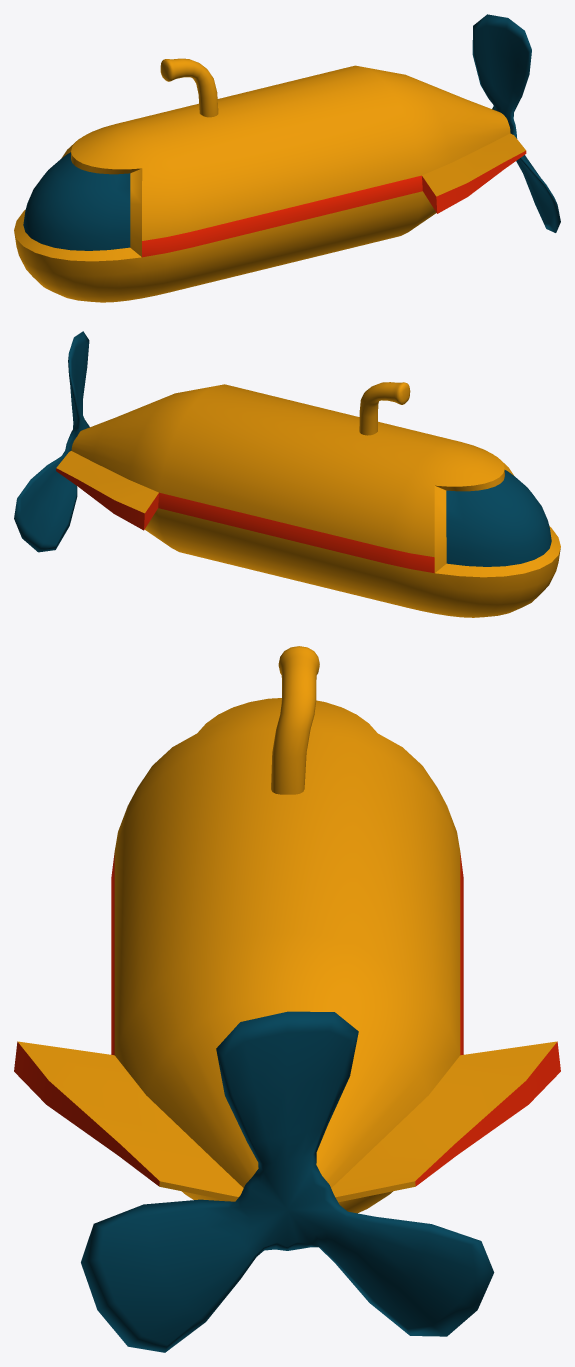
File: submarine.fbx
3 views of the same model, one above another, from view 1: azimuth 30°, elevation 25°; view 2: azimuth 150°, elevation 25°; view 3: azimuth 270°, elevation 25° (orthographic). The views are drawn at different scales.
Visible parts, largest first — view 1: Sybmarine_body, Propeller, Periscope; view 2: Sybmarine_body, Propeller, Periscope; view 3: Sybmarine_body, Propeller, Periscope.
Boxes of the visible parts, box(x1,y1,x2,y2) form: Sybmarine_body: box(14, 65, 526, 302); Propeller: box(472, 14, 560, 232); Periscope: box(160, 58, 218, 117); Sybmarine_body: box(56, 384, 560, 617); Propeller: box(14, 331, 89, 552); Periscope: box(359, 382, 410, 435); Sybmarine_body: box(14, 698, 560, 1213); Propeller: box(81, 1011, 494, 1352); Periscope: box(271, 646, 319, 794).
Size of the model in its own units: 180 by 337 by 148.
